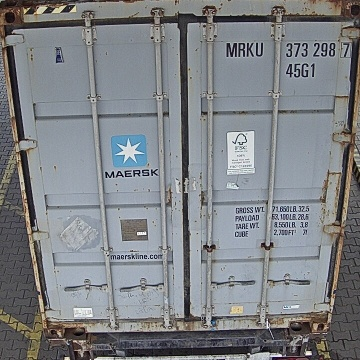serial_id: (226, 42, 351, 56)
